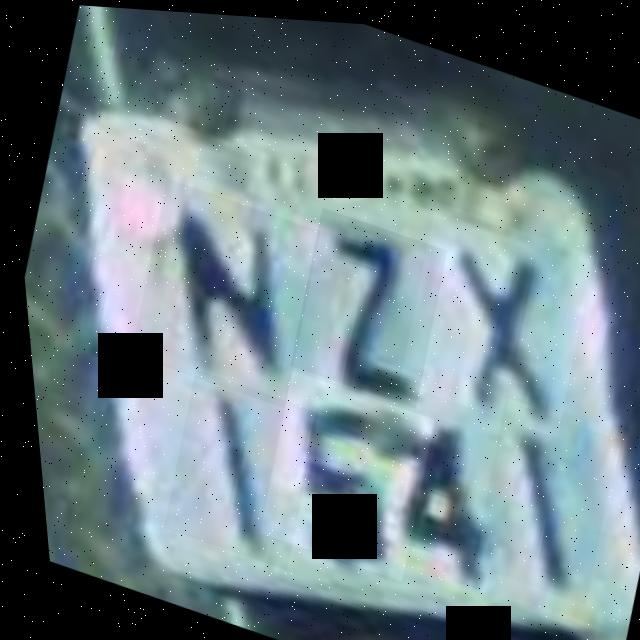1: (143, 365, 322, 569), (450, 391, 623, 600)
4: (325, 366, 542, 604)
5: (238, 364, 438, 579)
N: (111, 173, 329, 407)
X: (379, 192, 602, 433)
Z: (272, 201, 454, 405)
